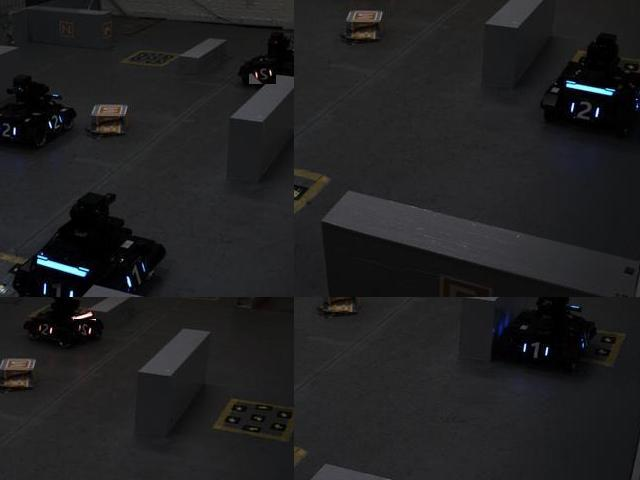armor: (122, 250, 149, 296), (562, 98, 603, 125), (519, 338, 552, 364), (38, 277, 80, 296), (41, 110, 69, 135), (31, 317, 59, 341), (250, 63, 278, 86), (0, 117, 21, 143), (74, 319, 97, 340)
